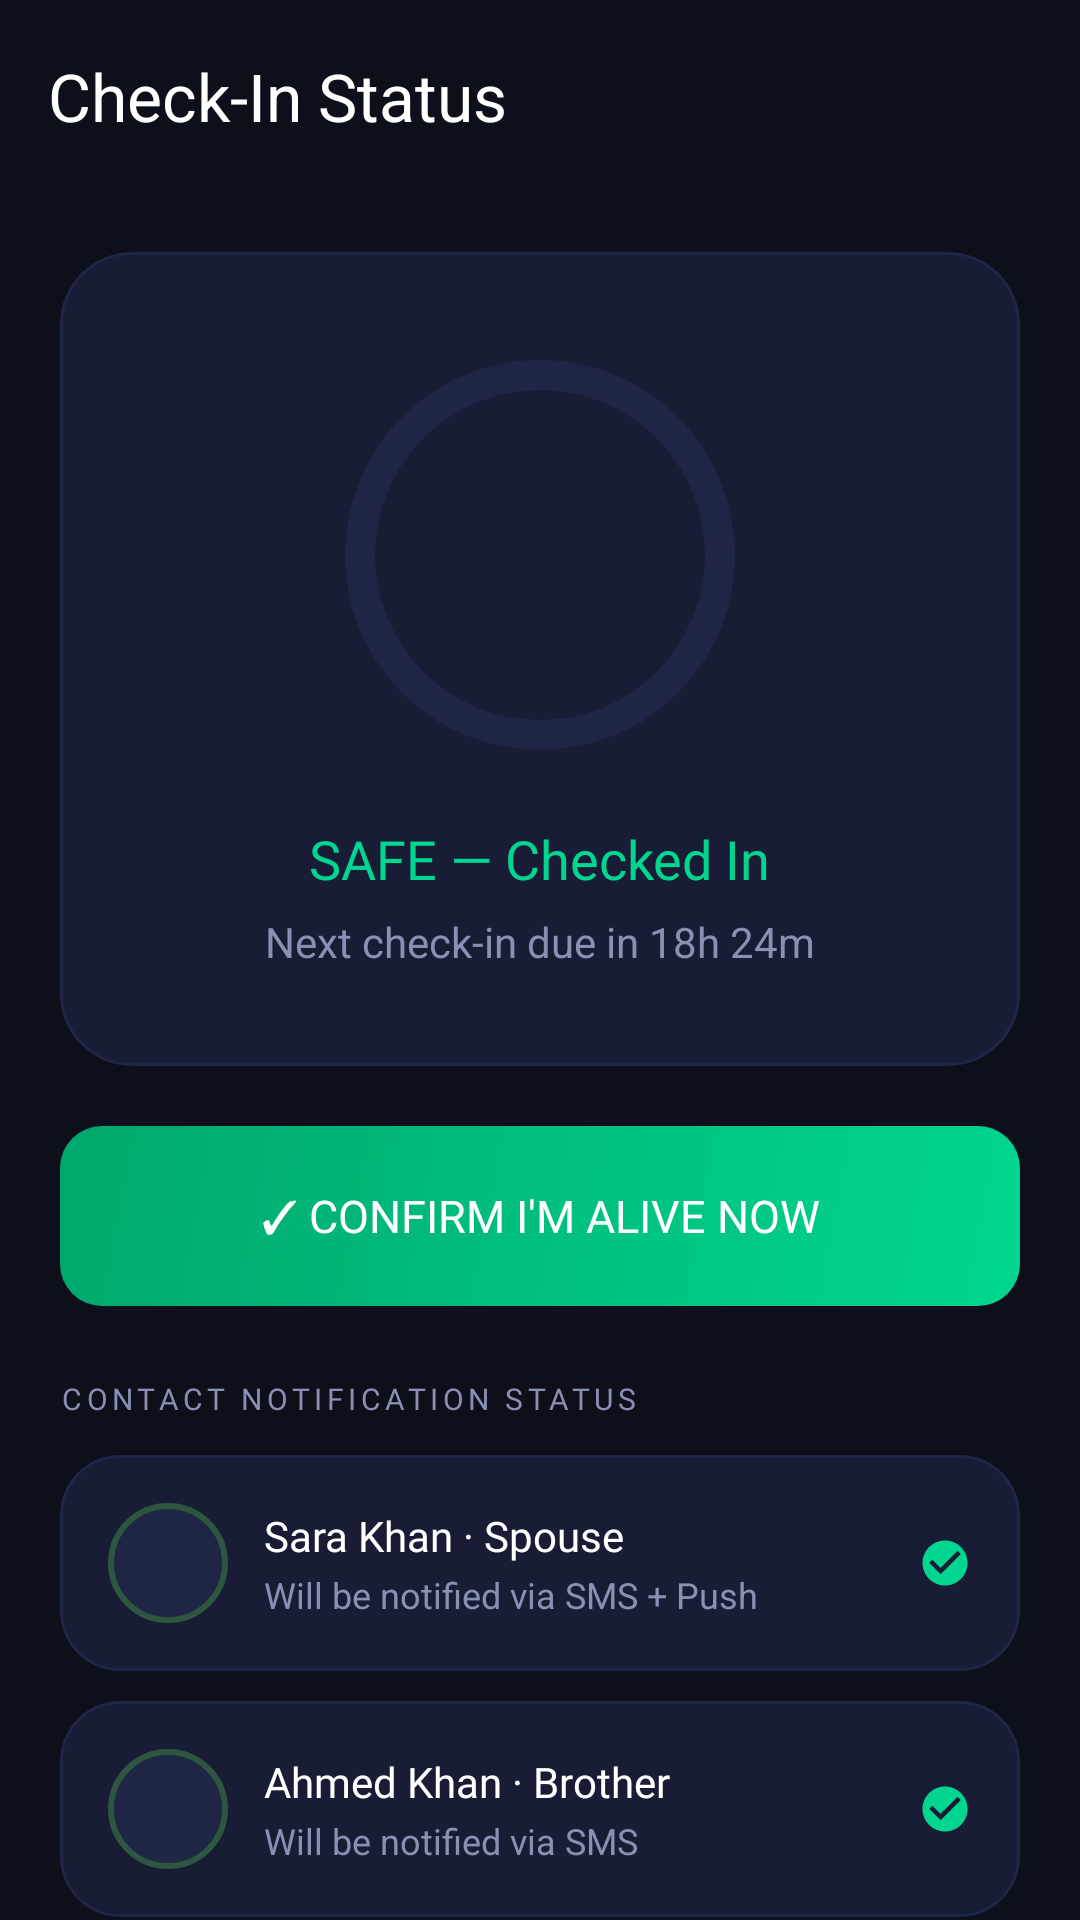

Point at icon controls on the screen. Image size 1080 × 1920, points as (x=x, y=y).
check circle: (x=945, y=1563), (x=945, y=1809)
